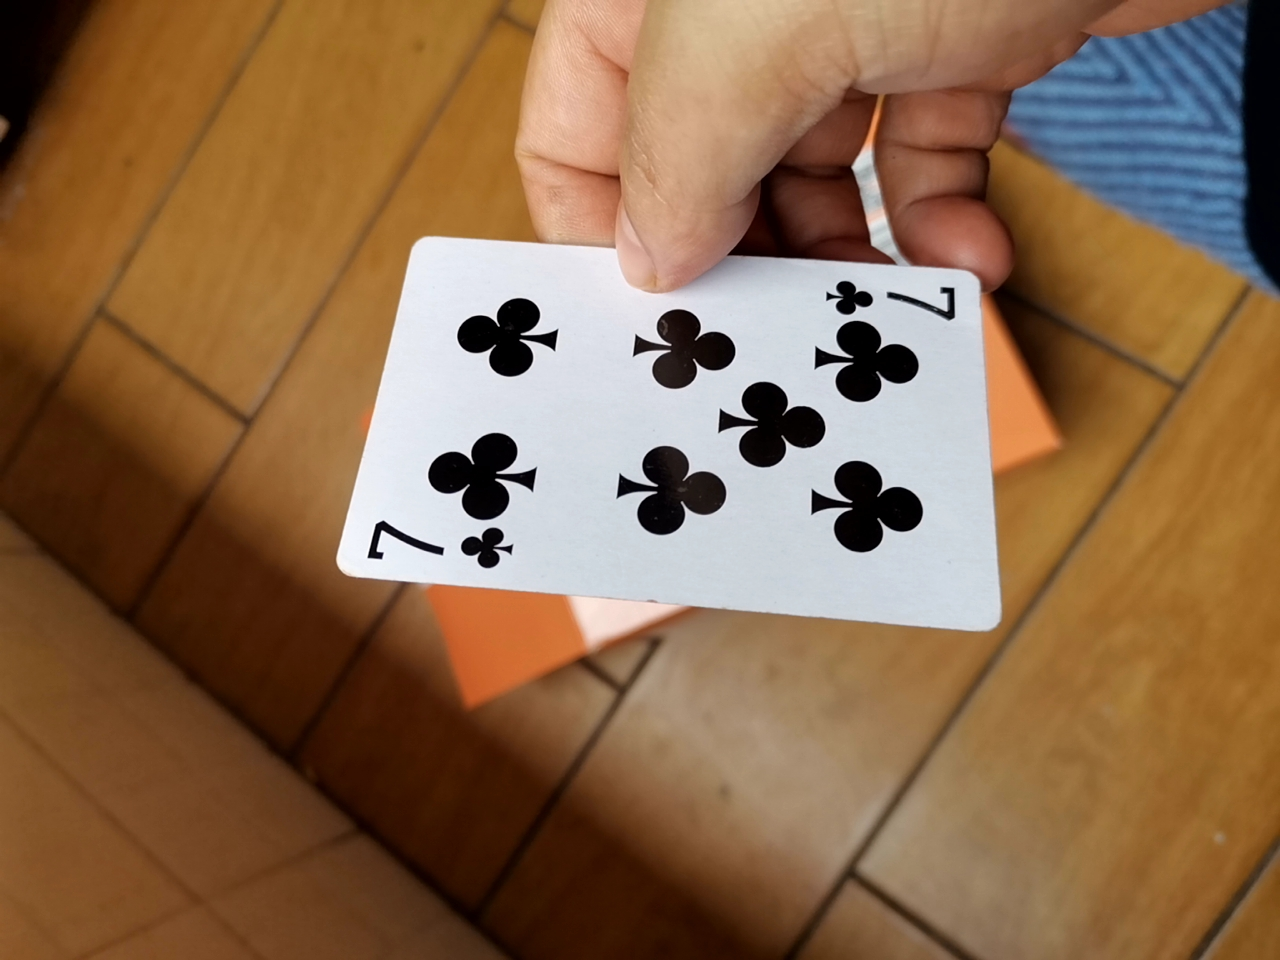mh 7: (316, 236, 1009, 654)
